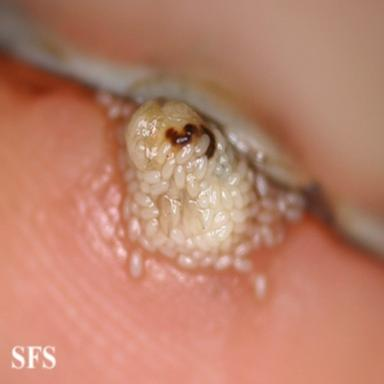Tungiasis: (97, 93, 305, 278), (252, 273, 267, 298)
